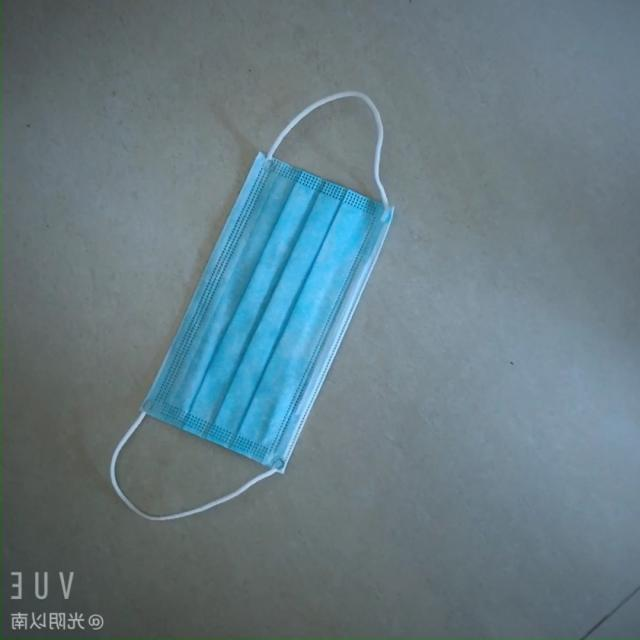face mask: (147, 145, 393, 481)
